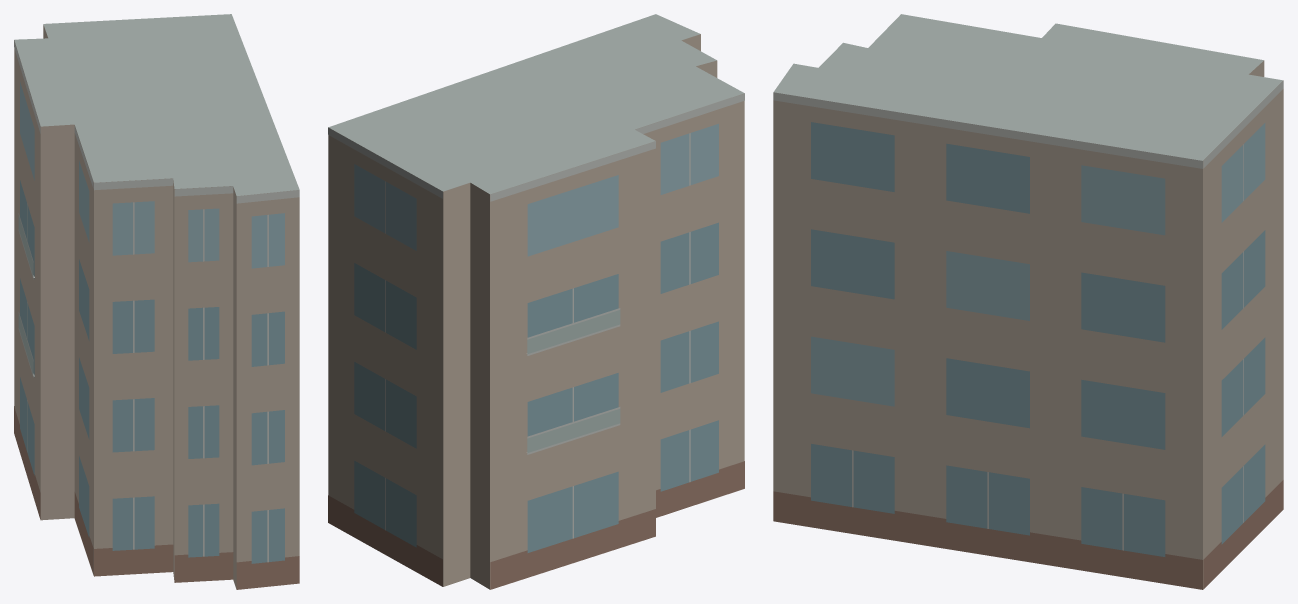
Rendered from survey-upis-32641119.glb.
3 views of the same model, side by side, from view 1: azimuth 30°, elevation 25°; view 2: azimuth 150°, elevation 25°; view 3: azimuth 270°, elevation 25° (orthographic). The views are drawn at different scales.
Parts seen in each view (by area): view 1: survey-upis-32641119.tmp; view 2: survey-upis-32641119.tmp; view 3: survey-upis-32641119.tmp.
Boxes of the visible parts, bbox=[...] form: survey-upis-32641119.tmp: bbox=[14, 14, 299, 589]; survey-upis-32641119.tmp: bbox=[328, 14, 744, 589]; survey-upis-32641119.tmp: bbox=[773, 14, 1283, 589].
Size of the model in its own units: 9.5 by 12.92 by 13.94.
